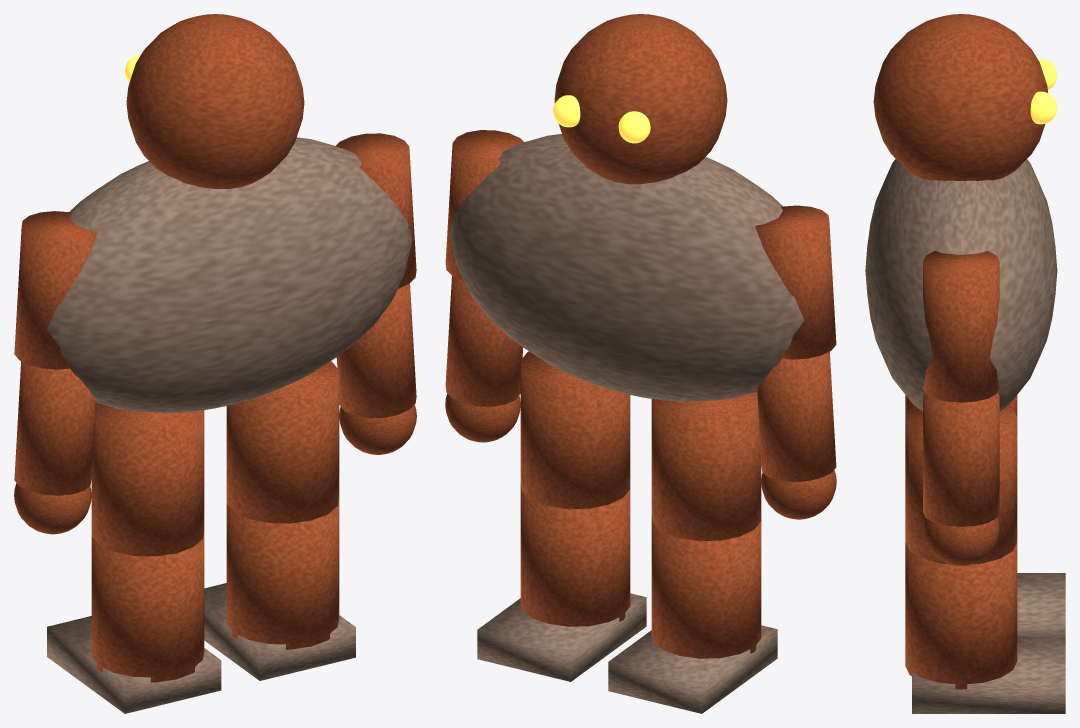
The model's file is fire-giant.glb.
3 views of the same model, side by side, from view 1: azimuth 30°, elevation 25°; view 2: azimuth 150°, elevation 25°; view 3: azimuth 270°, elevation 25° (orthographic). The views are drawn at different scales.
Visible parts, largest first — view 1: Torso, Head, ThighL, ThighR, ShinR, ShinL, ForearmL, UpperArmL, ForearmR, FootL, FootR, UpperArmR (+2 smaller); view 2: Torso, Head, ThighL, ThighR, ShinL, ShinR, ForearmL, FootR, FootL, UpperArmL, ForearmR, UpperArmR (+4 smaller); view 3: Torso, Head, ShinR, UpperArmR, ForearmR, FootR, ThighR, FootL, HandR, Eye.001, Eye.
Boxes of the visible parts, x1,y1,x2,y2 form: Torso: (47,137,412,412); Head: (126,14,304,188); ThighL: (91,403,204,556); ThighR: (226,361,339,523); ShinR: (226,497,339,649); ShinL: (91,531,204,682); ForearmL: (14,361,95,495); UpperArmL: (14,211,97,369); ForearmR: (336,283,416,418); FootL: (47,616,221,713); FootR: (204,583,355,680); UpperArmR: (336,133,416,288); Torso: (449,134,804,401); Head: (554,14,727,184); ThighL: (651,392,761,540); ThighR: (520,351,630,509); ShinL: (651,515,761,658); ShinR: (520,484,630,626); ForearmL: (757,351,836,481); FootR: (477,593,646,681); FootL: (608,625,777,713); UpperArmL: (755,205,836,359); ForearmR: (445,276,523,406); UpperArmR: (445,130,523,280); Torso: (865,159,1057,411); Head: (873,14,1047,180); ShinR: (905,542,1017,689); UpperArmR: (923,251,999,402); ForearmR: (923,392,999,526); FootR: (912,637,1065,713); ThighR: (905,405,1017,564); FootL: (1017,573,1065,637); HandR: (923,517,999,566); Eye.001: (1030,91,1057,124); Eye: (1038,59,1057,89).
Size of the model in its own units: 0.6367 by 1 by 0.2852.
3 materials, 2 textured.
